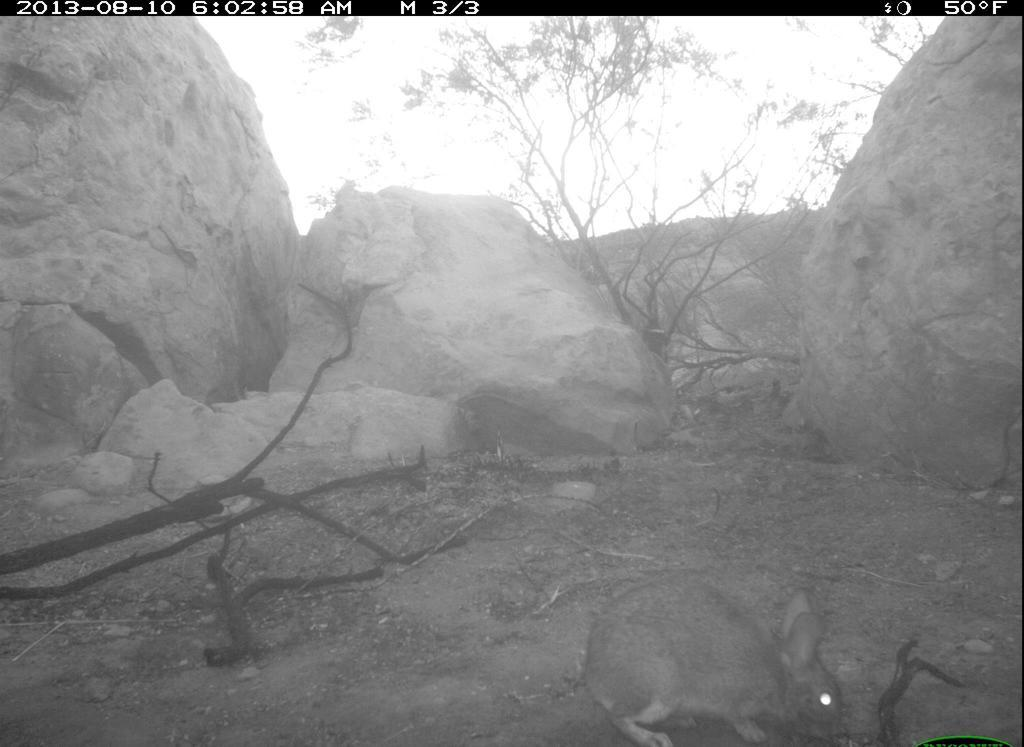rabbit: (561, 555, 868, 745)
